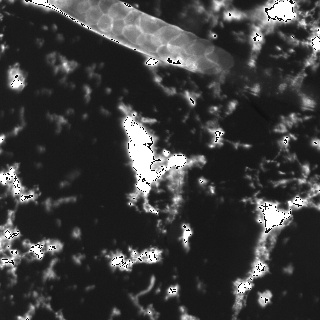embryo: (185, 54, 223, 76), (155, 44, 193, 65), (152, 26, 187, 48), (135, 15, 170, 36), (204, 45, 233, 69), (167, 31, 197, 54), (136, 32, 164, 53), (182, 39, 215, 56), (106, 2, 132, 21), (123, 25, 146, 45), (122, 10, 142, 30), (84, 6, 103, 26), (94, 14, 113, 33), (110, 16, 126, 36)
